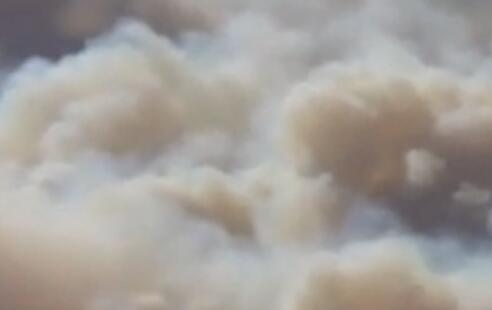yanwu: (1, 0, 490, 308)
